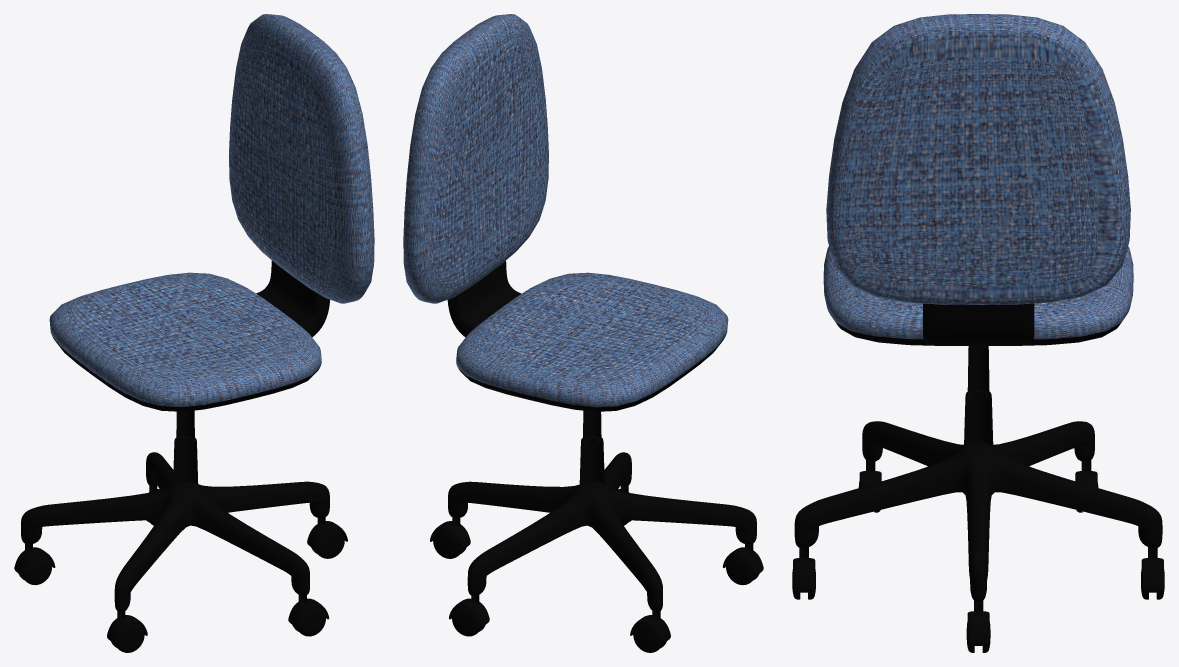
The model's file is chair.fbx.
The picture shows the model from 3 angles, left to right: view 1: azimuth 30°, elevation 25°; view 2: azimuth 150°, elevation 25°; view 3: azimuth 270°, elevation 25°; orthographic projection. The views are drawn at different scales.
Parts seen in each view (by area): view 1: 立方体.003; view 2: 立方体.003; view 3: 立方体.003.
Part boxes in pixels (bbox=[...]): 立方体.003: bbox=[14, 14, 374, 652]; 立方体.003: bbox=[403, 14, 763, 652]; 立方体.003: bbox=[792, 14, 1164, 652].
Size of the model in its own units: 50.01 by 90.59 by 49.3.
